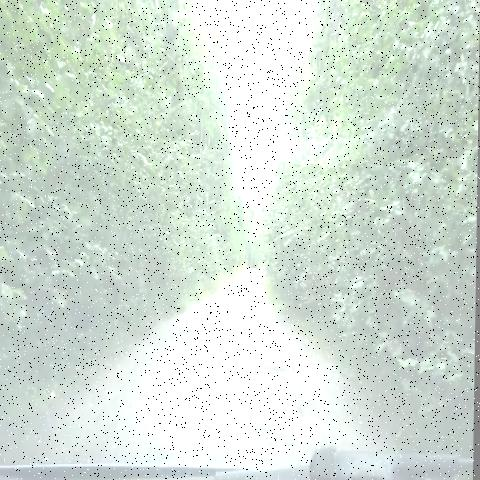pothole: (208, 420, 291, 458), (194, 379, 264, 422), (227, 341, 304, 379), (279, 384, 324, 427), (228, 304, 266, 342), (198, 321, 239, 351), (222, 336, 261, 359)
